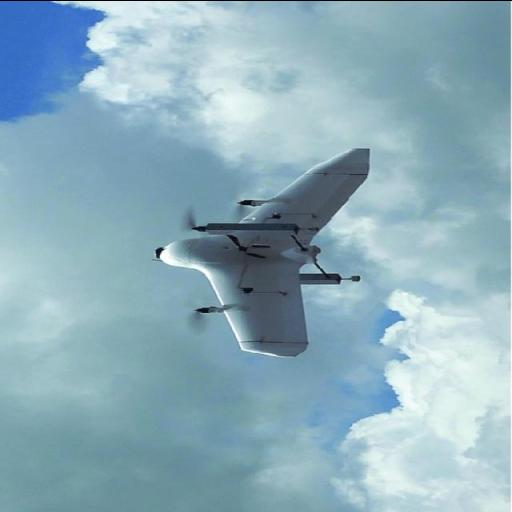uav: (142, 136, 396, 370)
